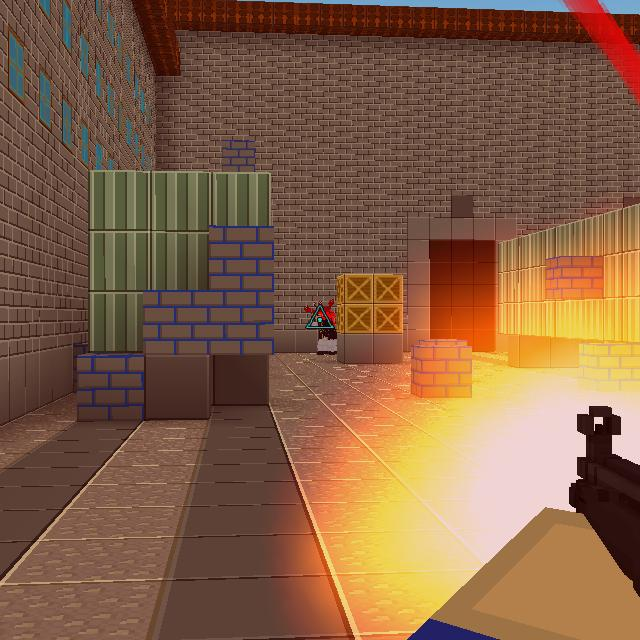enemy: (305, 298, 338, 355)
